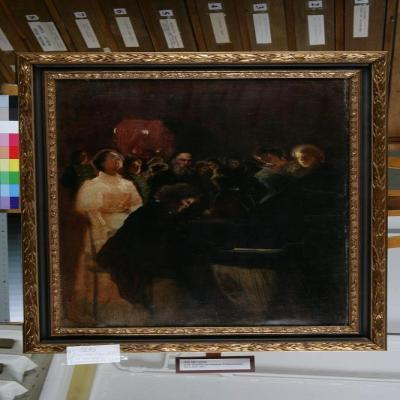painting: (19, 52, 388, 354)
